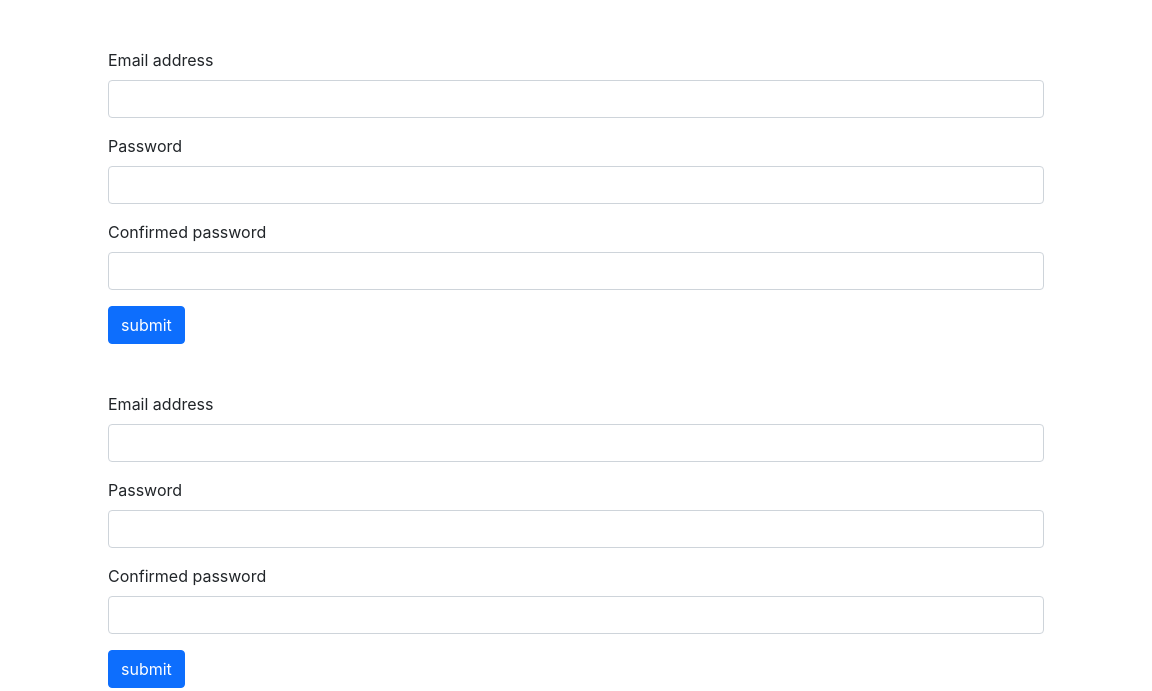
App › Error Handling › should show error message on invalid email
Check: the text "invalid email format" is not shown
Type "selenagomez.com" into the field labelled "Email address".
click(576, 99); type("selenagomez.com")  # box [108, 80, 1044, 118]
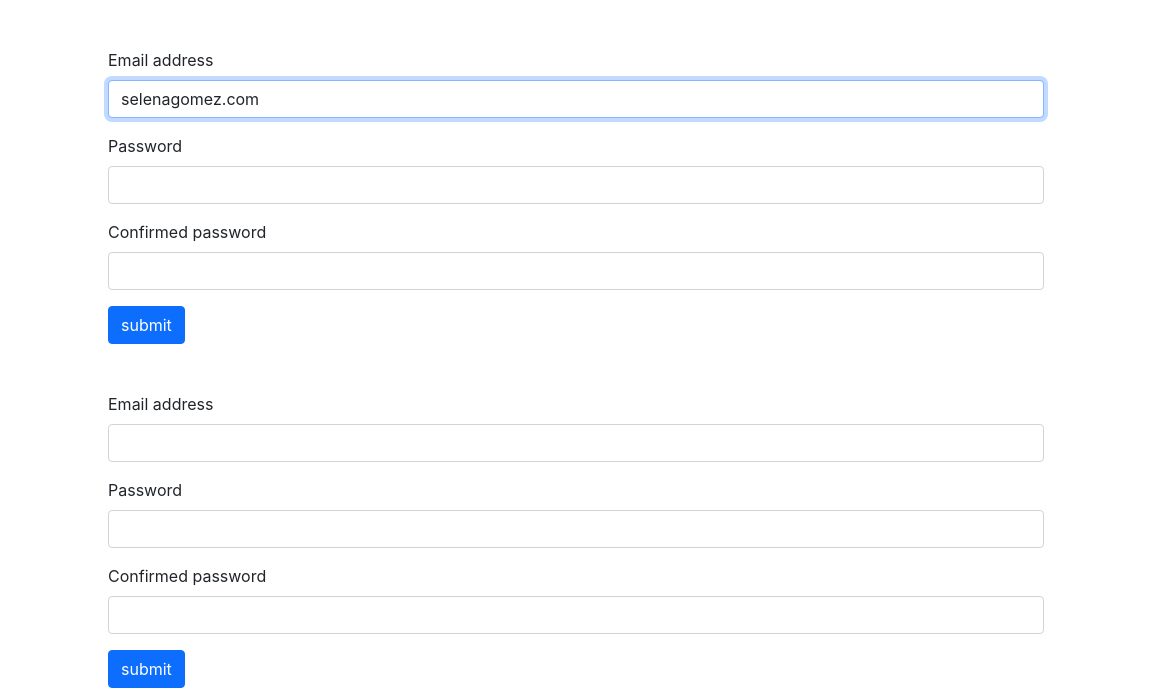
Click the 1st button "submit".
click(146, 325)  # box [108, 306, 185, 344]
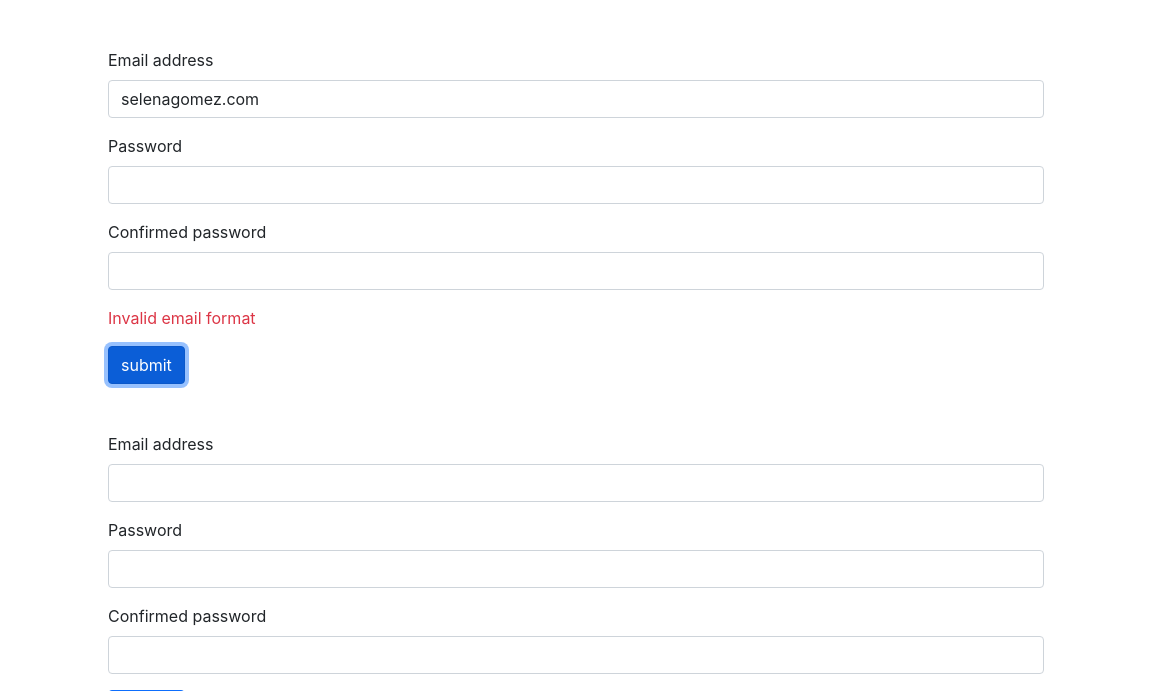
Check: the text "Invalid email format" is shown, box [108, 308, 256, 328]
